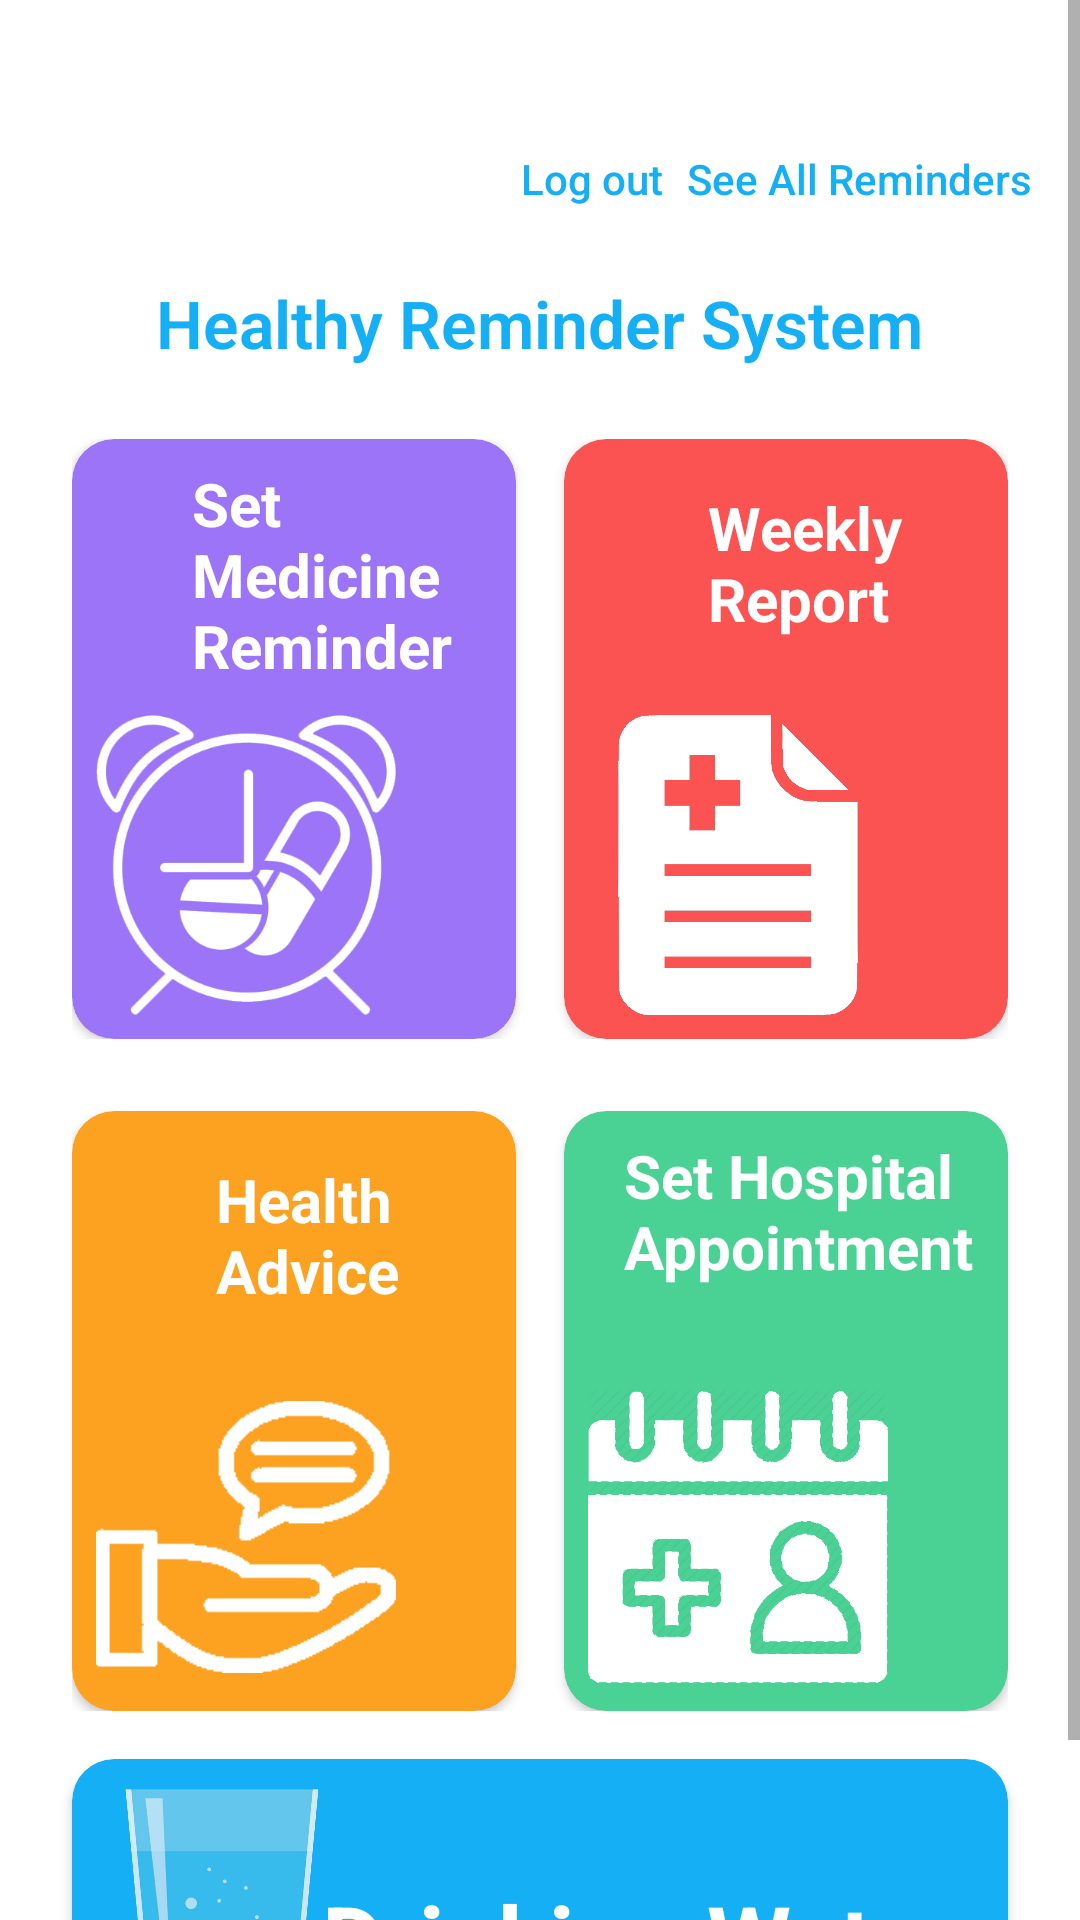

Named icons in this screenshot (1080*1920) and their centers, [x,y]:
appointement: [738,1537]
